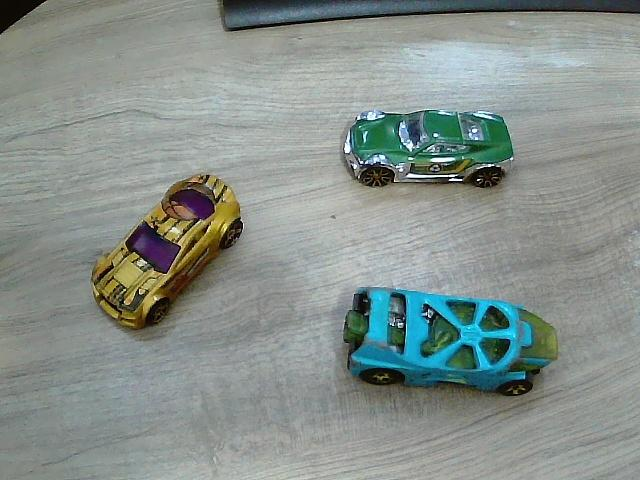Carro: (345, 287, 560, 397), (93, 174, 243, 331), (346, 113, 516, 188)
